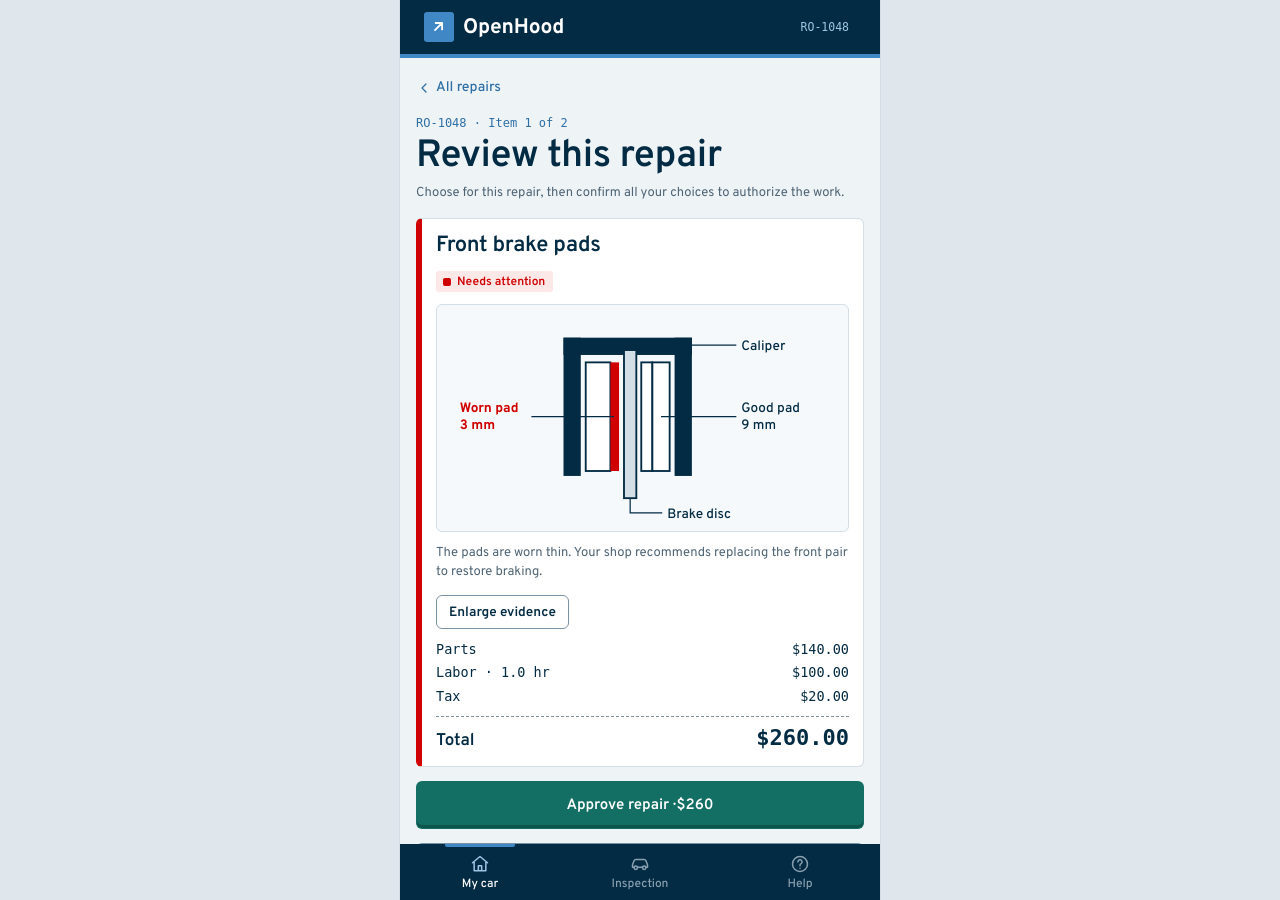
it: closing the sheet with Go back records nothing
This screenshot has width=1280, height=900.
Click the button "Approve repair · $260" at (640, 805), box [416,781,864,829]
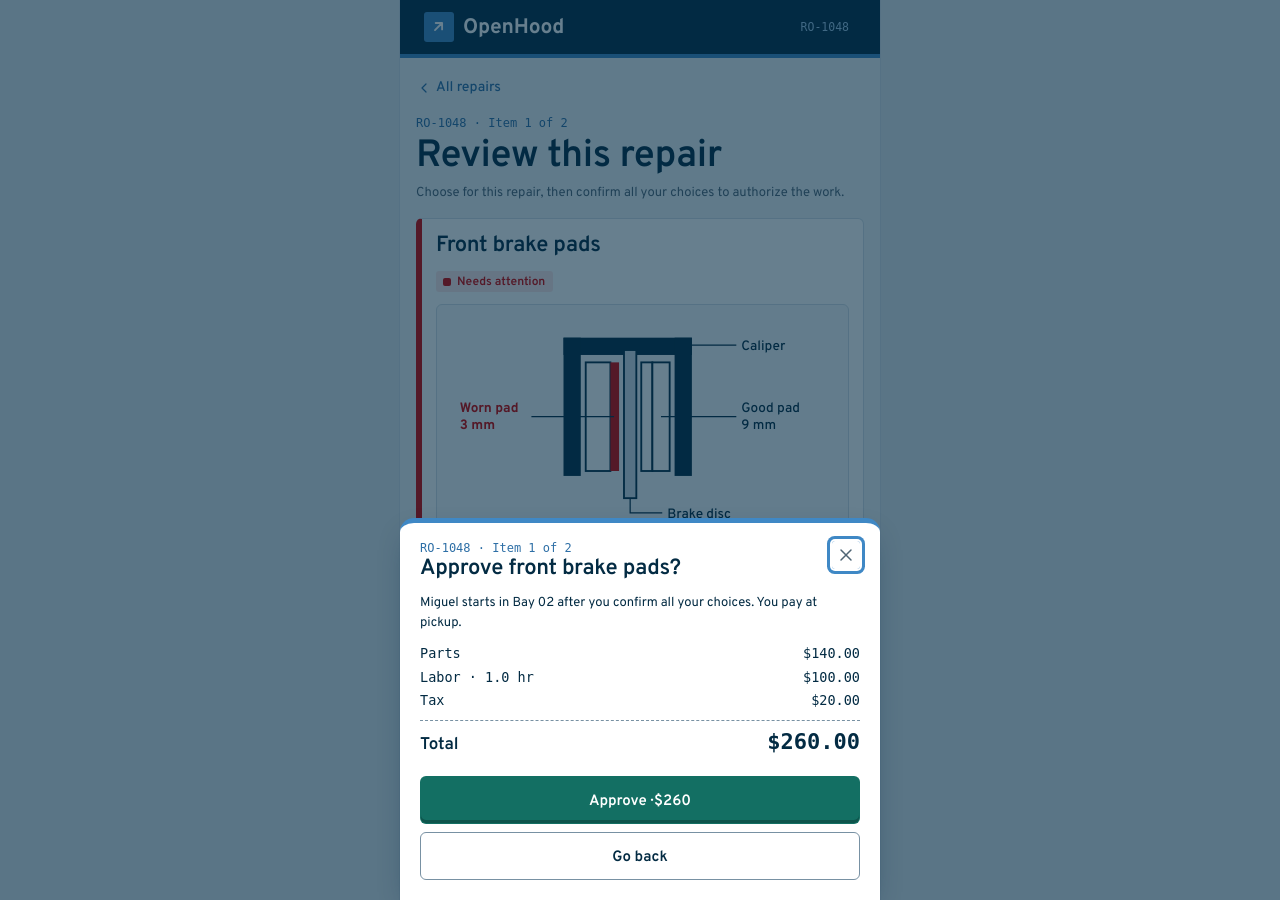
Click the button "Go back" at (640, 856), box [420,832,860,880]
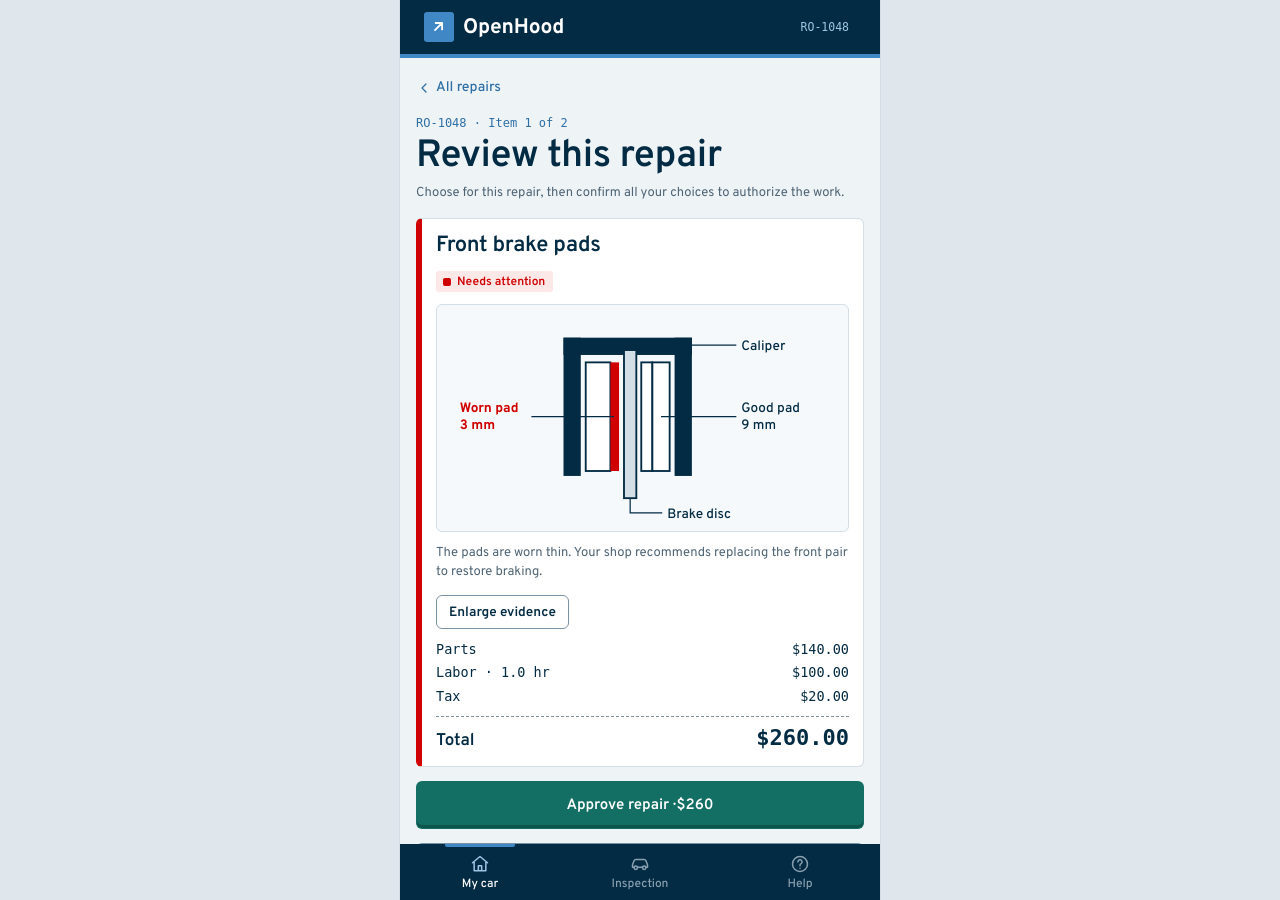
Check: the dialog is gone
